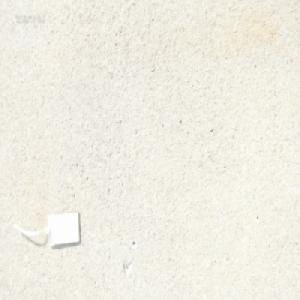LuggageTag: (10, 208, 82, 251)
